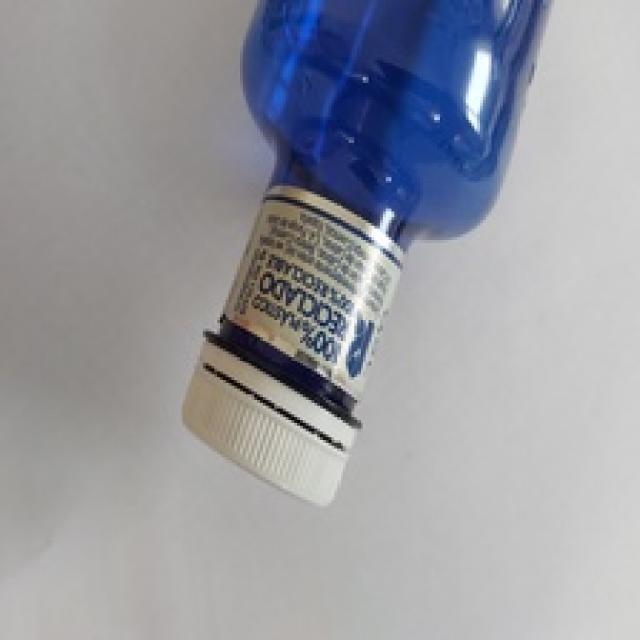Plastic: (182, 0, 552, 503)
